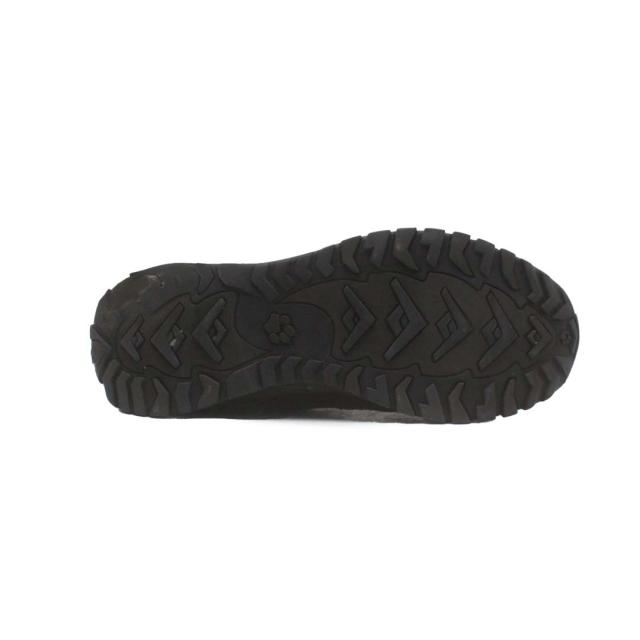outersole: (89, 231, 581, 423)
